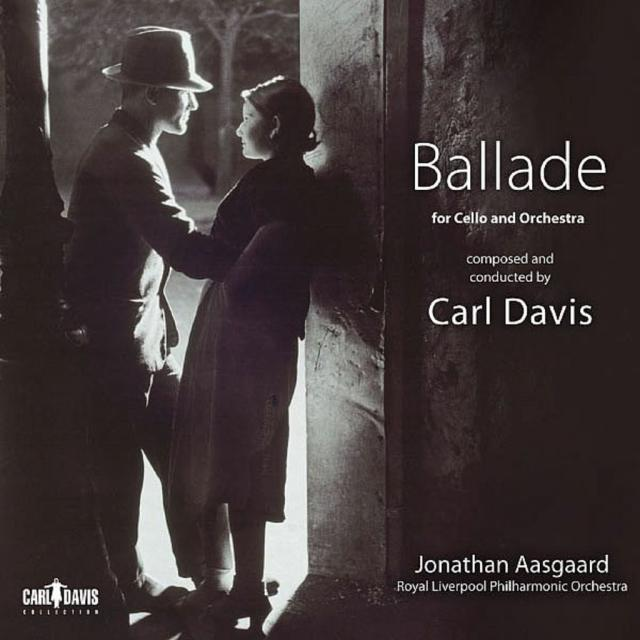Hat: (103, 23, 216, 94)
